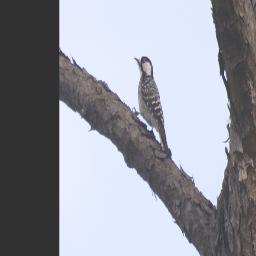Woodpecker: (130, 50, 175, 165)
